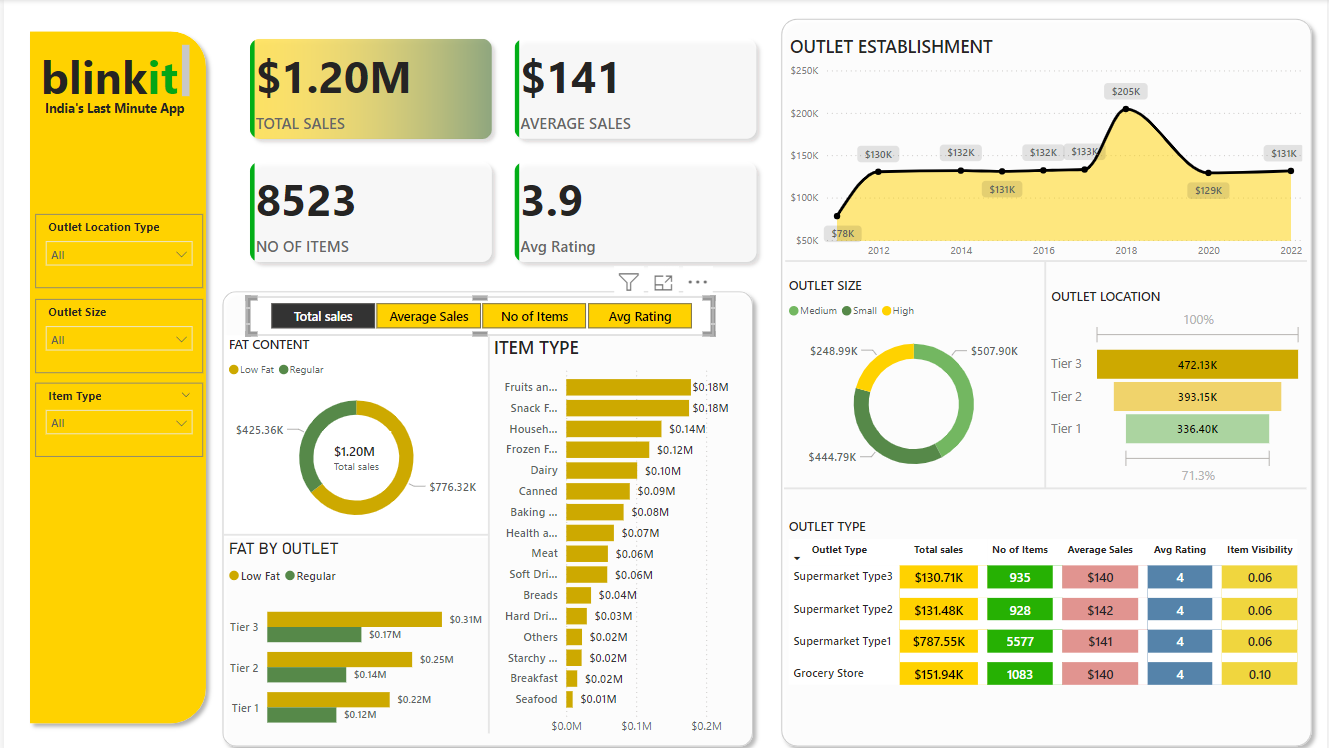

The dashboard page shown, as its layout file describes it:
{"tool":"powerbi","page":{"name":"Page 1","canvas":[1400,800],"ordinal":0},"visuals":[{"type":"shape","box":[18,25.5,204.1,750.4],"z":0},{"type":"textbox","box":[28.5,43.5,172.6,69],"z":1000},{"type":"textbox","box":[33,102.1,168.1,40.5],"z":2000},{"type":"cardVisual","fields":{"Data":["BlinkIT Grocery Data.Total sales","BlinkIT Grocery Data.Average Sales","BlinkIT Grocery Data.No of Items","BlinkIT Grocery Data.Avg Rating"]},"box":[243.1,25.5,570.3,270.2],"z":3000},{"type":"shape","box":[222.1,300.2,579.3,499.8],"z":4000},{"type":"donutChart","title":"FAT CONTENT","fields":{"Y":["BlinkIT Grocery Data.Total sales"],"Category":["BlinkIT Grocery Data.Item Fat Content"]},"box":[232.8,355.8,280.4,214.3],"z":5000},{"type":"slicer","fields":{"Values":["Metrics.Metrics"]},"box":[256.6,315.2,495.3,40.5],"z":6000},{"type":"cardVisual","fields":{"Data":["BlinkIT Grocery Data.Total sales"]},"box":[332,452.4,83.3,62.2],"z":7000},{"type":"clusteredBarChart","title":"FAT BY OUTLET","fields":{"Y":["BlinkIT Grocery Data.Total sales"],"Category":["BlinkIT Grocery Data.Outlet Location Type"],"Series":["BlinkIT Grocery Data.Item Fat Content"]},"box":[232.8,571.4,280.4,218.3],"z":8000},{"type":"shape","box":[492.3,357.2,42,420.2],"z":9000},{"type":"shape","box":[232.6,549.3,280.7,36],"z":10000},{"type":"barChart","title":"ITEM TYPE","fields":{"Y":["BlinkIT Grocery Data.Total sales"],"Category":["BlinkIT Grocery Data.Item Type"]},"box":[513.3,355.7,276.2,432.2],"z":11000},{"type":"shape","box":[813.5,12,579.3,788],"z":12000},{"type":"lineChart","title":"OUTLET ESTABLISHMENT","fields":{"Y":["BlinkIT Grocery Data.Total sales"],"Category":["BlinkIT Grocery Data.Outlet Establishment Year"]},"box":[827,37.5,552.3,246.1],"z":13000},{"type":"shape","box":[827,259.6,552.3,36],"z":14000},{"type":"donutChart","title":"OUTLET SIZE","fields":{"Y":["BlinkIT Grocery Data.Total sales"],"Category":["BlinkIT Grocery Data.Outlet Size"]},"box":[825.4,293.7,275.1,224.9],"z":15000},{"type":"shape","box":[1080.7,277.8,42.3,240.7],"z":16000},{"type":"funnel","title":"OUTLET LOCATION","fields":{"Category":["BlinkIT Grocery Data.Outlet Location Type"],"Y":["Sum(BlinkIT Grocery Data.Sales)"]},"box":[1103.2,305.6,276.5,213],"z":17000},{"type":"shape","box":[825.4,500,552.9,35.7],"z":18000},{"type":"pivotTable","title":"OUTLET TYPE","fields":{"Rows":["BlinkIT Grocery Data.Outlet Type"],"Values":["BlinkIT Grocery Data.Total sales","BlinkIT Grocery Data.No of Items","BlinkIT Grocery Data.Average Sales","BlinkIT Grocery Data.Avg Rating","Avg(BlinkIT Grocery Data.Item Visibility)"]},"box":[825.4,548.9,552.9,220.9],"z":19000},{"type":"slicer","fields":{"Values":["BlinkIT Grocery Data.Outlet Location Type"]},"box":[33.1,227.5,177.2,78],"z":20000},{"type":"slicer","fields":{"Values":["BlinkIT Grocery Data.Outlet Size"]},"box":[33.1,317.5,177.2,78],"z":21000},{"type":"slicer","fields":{"Values":["BlinkIT Grocery Data.Item Type"]},"box":[33.1,406.1,177.2,78],"z":22000}]}

Visuals, with their boxes in screenshot pixels (x1, y1, x2, y2), scaled from the page's 1400x800 canvas onto the 1329x748 screenshot:
shape: (left=17, top=24, right=211, bottom=725)
textbox: (left=27, top=41, right=191, bottom=105)
textbox: (left=31, top=95, right=191, bottom=133)
cardVisual - BlinkIT Grocery Data.Total sales x BlinkIT Grocery Data.Average Sales: (left=231, top=24, right=772, bottom=276)
shape: (left=211, top=281, right=761, bottom=747)
"FAT CONTENT" donutChart: (left=221, top=333, right=487, bottom=533)
slicer - Metrics.Metrics: (left=244, top=295, right=714, bottom=333)
cardVisual - BlinkIT Grocery Data.Total sales: (left=315, top=423, right=394, bottom=481)
"FAT BY OUTLET" clusteredBarChart: (left=221, top=534, right=487, bottom=738)
shape: (left=467, top=334, right=507, bottom=727)
shape: (left=221, top=514, right=487, bottom=547)
"ITEM TYPE" barChart: (left=487, top=333, right=749, bottom=737)
shape: (left=772, top=11, right=1322, bottom=747)
"OUTLET ESTABLISHMENT" lineChart: (left=785, top=35, right=1309, bottom=265)
shape: (left=785, top=243, right=1309, bottom=276)
"OUTLET SIZE" donutChart: (left=784, top=275, right=1045, bottom=485)
shape: (left=1026, top=260, right=1066, bottom=485)
"OUTLET LOCATION" funnel: (left=1047, top=286, right=1310, bottom=485)
shape: (left=784, top=468, right=1308, bottom=501)
"OUTLET TYPE" pivotTable: (left=784, top=513, right=1308, bottom=720)
slicer - BlinkIT Grocery Data.Outlet Location Type: (left=31, top=213, right=200, bottom=286)
slicer - BlinkIT Grocery Data.Outlet Size: (left=31, top=297, right=200, bottom=370)
slicer - BlinkIT Grocery Data.Item Type: (left=31, top=380, right=200, bottom=453)
